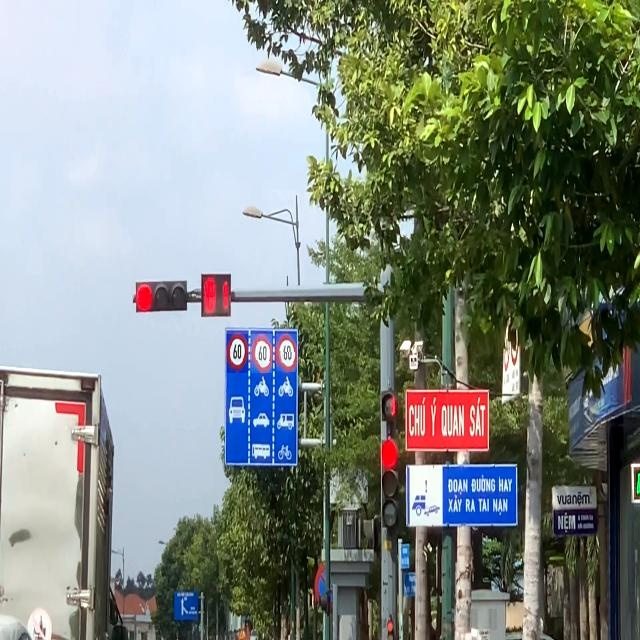bien_cam: (226, 334, 248, 373), (250, 334, 272, 373), (276, 334, 297, 372)
